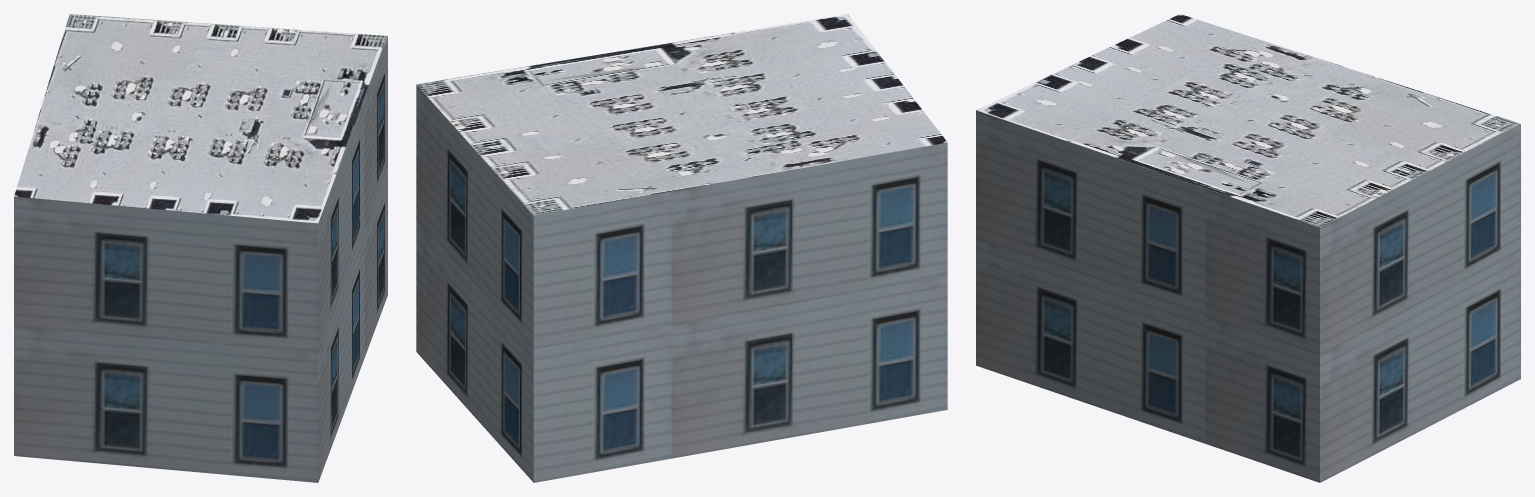
File: ResTex__1411.fbx
3 renders of one model, left to right at view 1: azimuth 30°, elevation 25°; view 2: azimuth 150°, elevation 25°; view 3: azimuth 270°, elevation 25°, orthographic. The views are drawn at different scales.
Visible parts, largest first — view 1: CityEngineMaterial_18_m, CityEngineMaterial_4_m; view 2: CityEngineMaterial_18_m, CityEngineMaterial_4_m; view 3: CityEngineMaterial_18_m, CityEngineMaterial_4_m.
Boxes of the visible parts, bbox=[...] form: CityEngineMaterial_18_m: bbox=[14, 36, 387, 482]; CityEngineMaterial_4_m: bbox=[14, 14, 387, 223]; CityEngineMaterial_18_m: bbox=[416, 85, 947, 482]; CityEngineMaterial_4_m: bbox=[416, 14, 947, 215]; CityEngineMaterial_18_m: bbox=[976, 110, 1520, 482]; CityEngineMaterial_4_m: bbox=[976, 14, 1520, 227].
Size of the model in its own units: 10.77 by 6 by 11.6.
2 materials, 2 textured.
